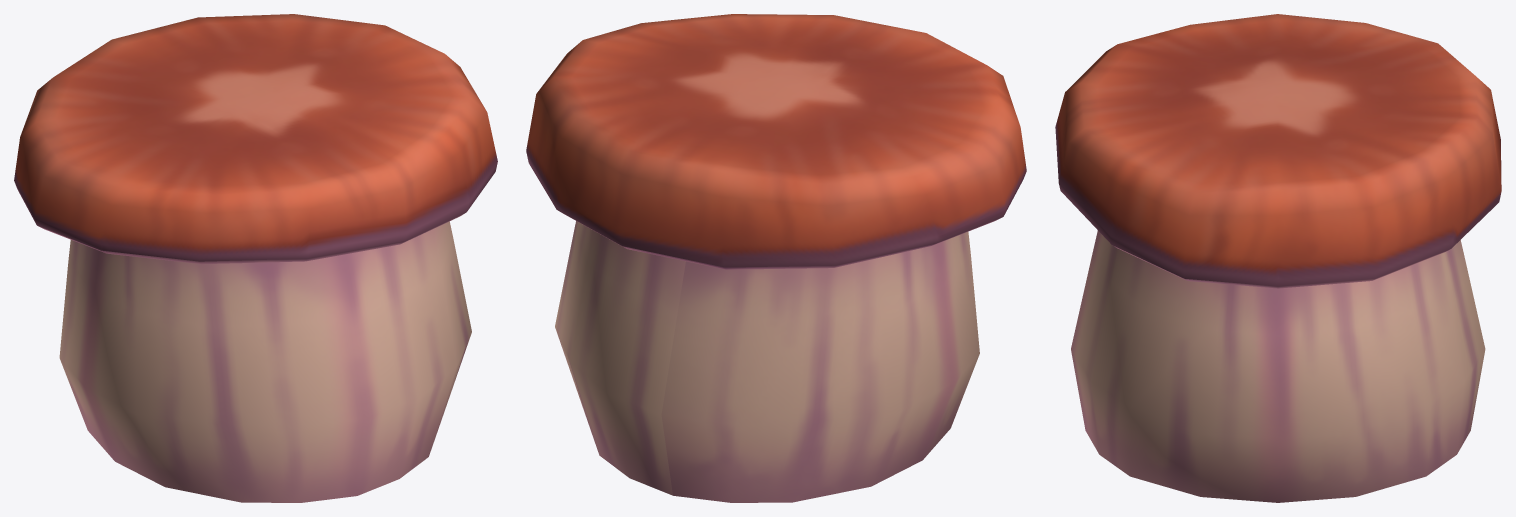
File: MD_mushroom_chair.fbx
The picture shows the model from 3 angles, left to right: view 1: azimuth 30°, elevation 25°; view 2: azimuth 150°, elevation 25°; view 3: azimuth 270°, elevation 25°; orthographic projection. The views are drawn at different scales.
Visible parts, largest first — view 1: mushroom_chair1; view 2: mushroom_chair1; view 3: mushroom_chair1.
Boxes of the visible parts, x1,y1,x2,y2 form: mushroom_chair1: (14,14,497,502); mushroom_chair1: (526,14,1026,502); mushroom_chair1: (1055,14,1501,502).
Size of the model in its own units: 31.77 by 23.04 by 27.98.
Materials: 1 (1 with a texture image).
